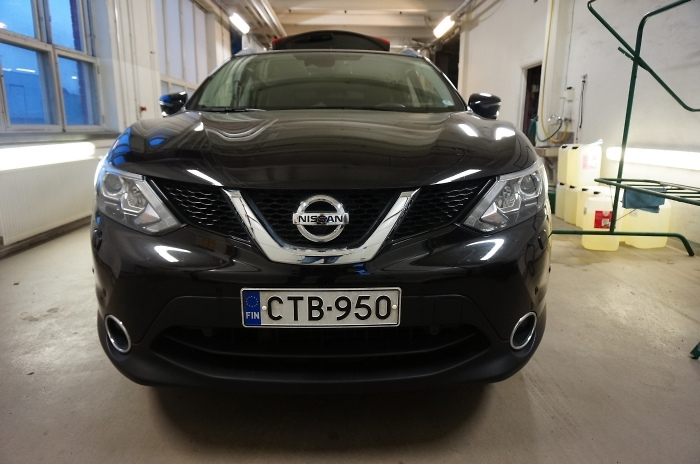license: (241, 286, 403, 333)
